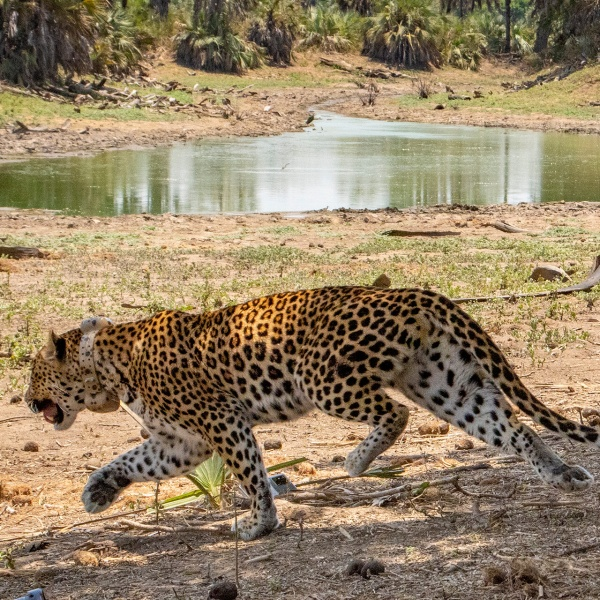Leopard: (22, 283, 600, 544)
